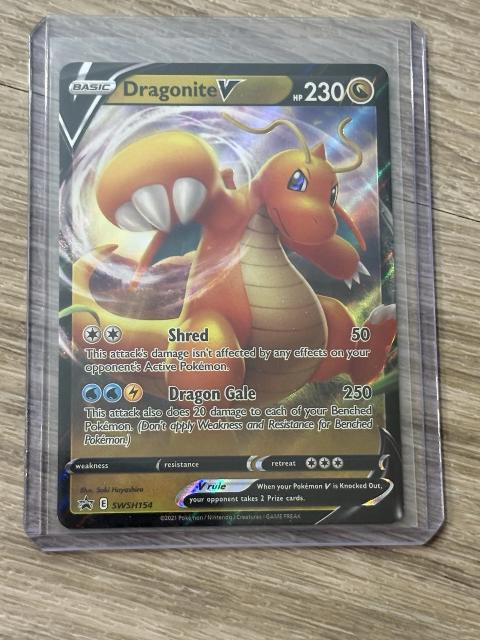Card: (55, 57, 411, 535)
Name: (118, 74, 253, 104)
